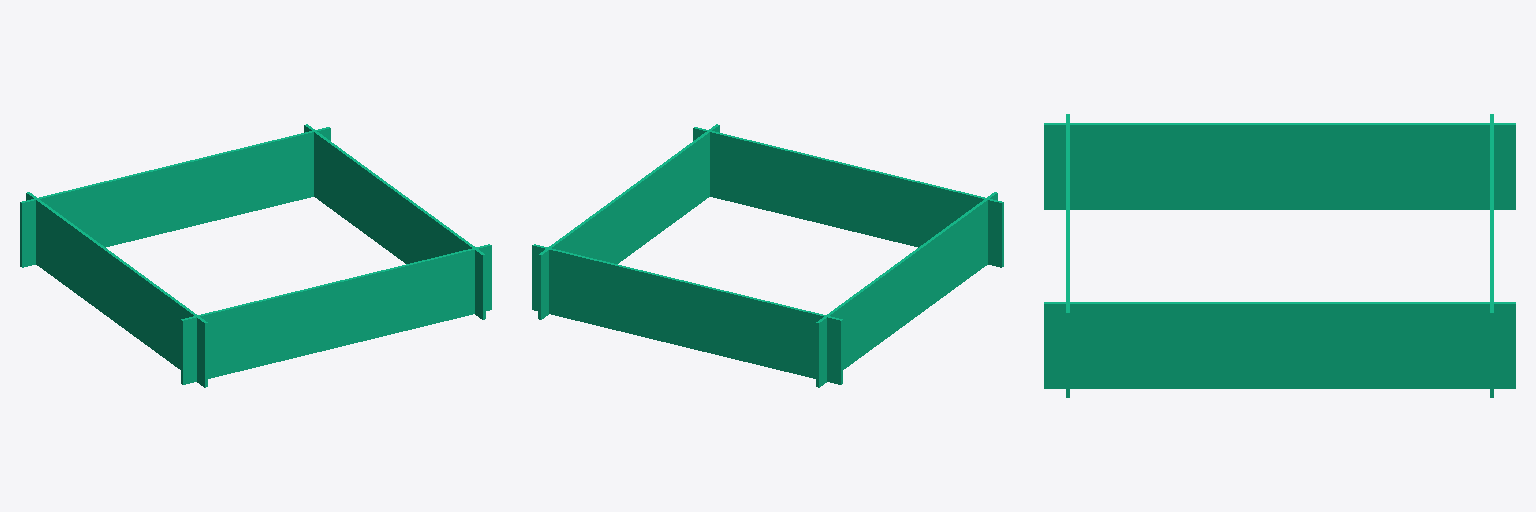
The robot description file, URDF, robot "bowl.urdf":
<?xml version="0.0" ?>
<robot name="bowl.urdf">
  <material name="mainColor">
    <color rgba=".1 .8 .6 1."/>
  </material>
<!--   <material name="mainColor">
    <color rgba=".55 .27 .1 1."/>
  </material> -->
<!--   <material name="mainColor">
    <color rgba="1. 1. 1. 1."/>
  </material> -->
  <material name="grey">
    <color rgba=".5 .5 .5 1."/>
  </material>

  <link name="world"/>

  <link name="base">
    <inertial>
      <origin rpy="0 0 0" xyz="0.0 0.0 0.0"/>
       <mass value=".1"/>
       <inertia ixx="1" ixy="0" ixz="0" iyy="1" iyz="0" izz="1"/>
    </inertial>
    <visual>
      <!-- right -->
      <origin rpy="0 0 0" xyz="0 -.45 0"/>
      <geometry>
        <box size="1 .01 .2"/>
      </geometry>
      <material name="mainColor"/>
    </visual>
    <visual>
      <!-- left -->
      <origin rpy="0 0 0" xyz="0 .45 0"/>
      <geometry>
        <box size="1 .01 .2"/>
      </geometry>
      <material name="mainColor"/>
    </visual>
    <visual>
      <!-- front -->
      <origin rpy="0 0 0" xyz=".45 0 0"/>
      <geometry>
        <box size=".01 1 .2"/>
      </geometry>
      <material name="mainColor"/>
    </visual>
    <visual>
      <!-- back -->
      <origin rpy="0 0 0" xyz="-.45 0 0"/>
      <geometry>
        <box size=".01 1 .2"/>
      </geometry>
      <material name="mainColor"/>
    </visual>
    <collision>
      <!-- right -->
      <origin rpy="0 0 0" xyz="0 -.45 0"/>
      <geometry>
        <box size="1 .01 .2"/>
      </geometry>
    </collision>
    <collision>
      <!-- left -->
      <origin rpy="0 0 0" xyz="0 .45 0"/>
      <geometry>
        <box size="1 .01 .2"/>
      </geometry>
    </collision>
    <collision>
      <!-- front -->
      <origin rpy="0 0 0" xyz=".45 0 0"/>
      <geometry>
        <box size=".01 1 .2"/>
      </geometry>
    </collision>
    <collision>
      <!-- back -->
      <origin rpy="0 0 0" xyz="-.45 0 0"/>
      <geometry>
        <box size=".01 1 .2"/>
      </geometry>
    </collision>
  </link>

  <joint name="base_joint" type="fixed">
    <parent link="world"/>
    <child link="base"/>
  </joint>

</robot>

--- What the picture shows (computed from the rendered views, not written in the file) ---
The picture shows the robot from 3 angles, left to right: view 1: azimuth 30°, elevation 25°; view 2: azimuth 150°, elevation 25°; view 3: azimuth 270°, elevation 25°; orthographic projection.
Model bowl.urdf with 2 links and 1 joints (1 fixed), rooted at world, posed all joints at 0.
Visible links, largest first — view 1: base; view 2: base; view 3: base.
Link boxes in pixels (x1,y1,x2,y2): base: (20, 124, 491, 387); base: (532, 124, 1003, 387); base: (1044, 114, 1515, 397).
Bounding box of the posed robot: 1 × 1 × 0.2 m (x, y, z).
Geometry: primitives only (box / cylinder / sphere), no mesh files.